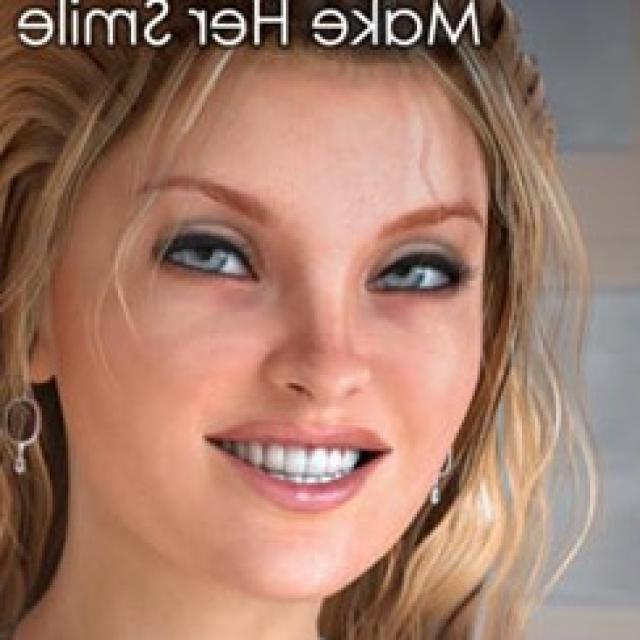Normal: (50, 66, 488, 611)
